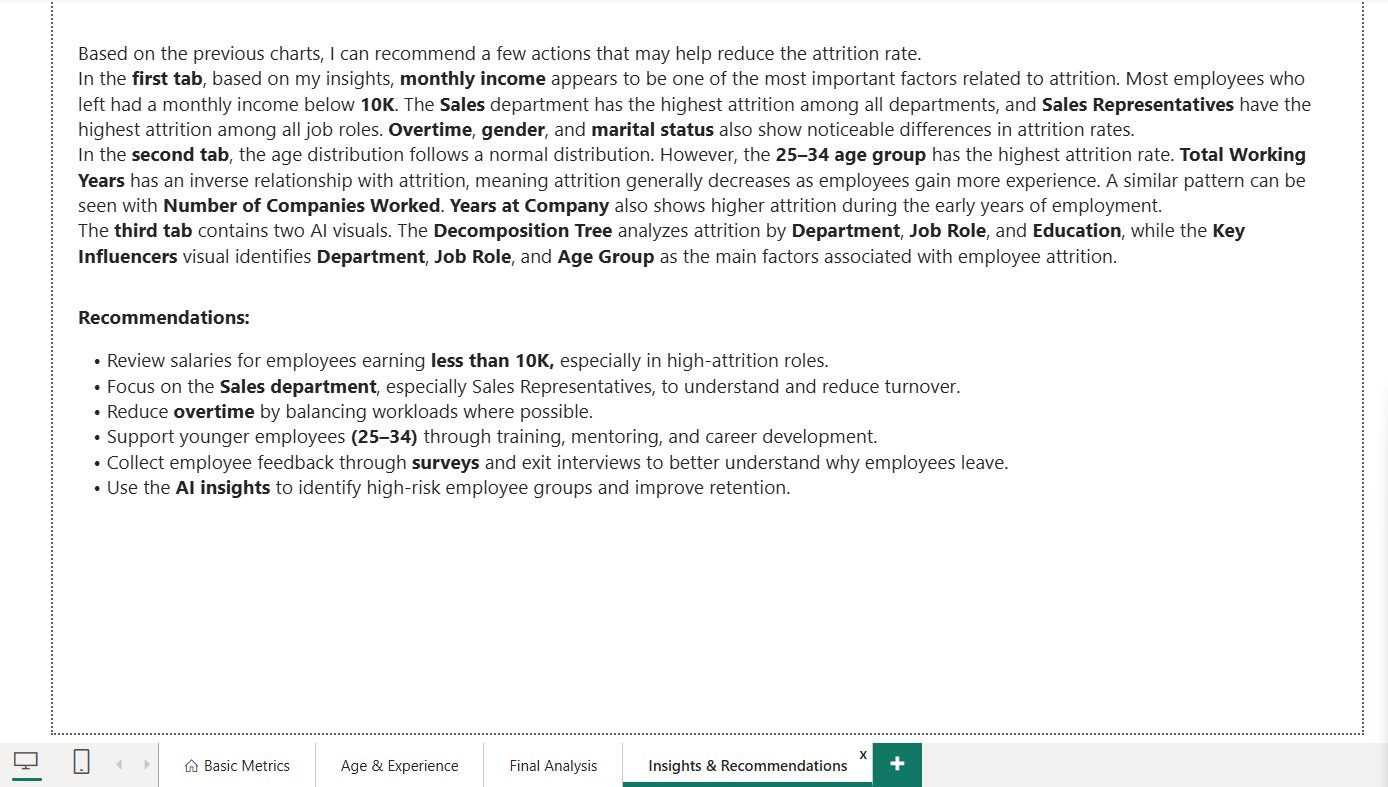

This screenshot's page, from the dashboard's own definition file:
{"tool":"powerbi","page":{"name":"Insights & Recommendations","canvas":[1280,720],"ordinal":3},"visuals":[{"type":"textbox","box":[19.6,36.7,1225.3,626.1],"z":0}]}

Visuals, with their boxes on the page's 1280x720 design canvas (x1, y1, x2, y2). These are canvas units, not pixel positions in the 1388x787 screenshot, which may show the page scaled, cropped or inside an application window:
textbox: (x1=20, y1=37, x2=1245, y2=663)
